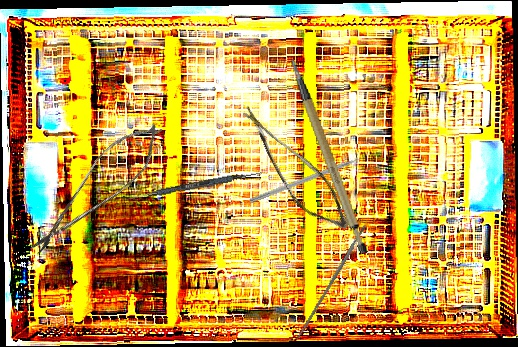Chopper: (249, 152, 375, 210)
Micro Scissor: (18, 108, 176, 270), (216, 104, 369, 238)
Scalpel Handle: (289, 52, 371, 260), (295, 224, 368, 341)
Spatula Surgical: (121, 167, 263, 205)
